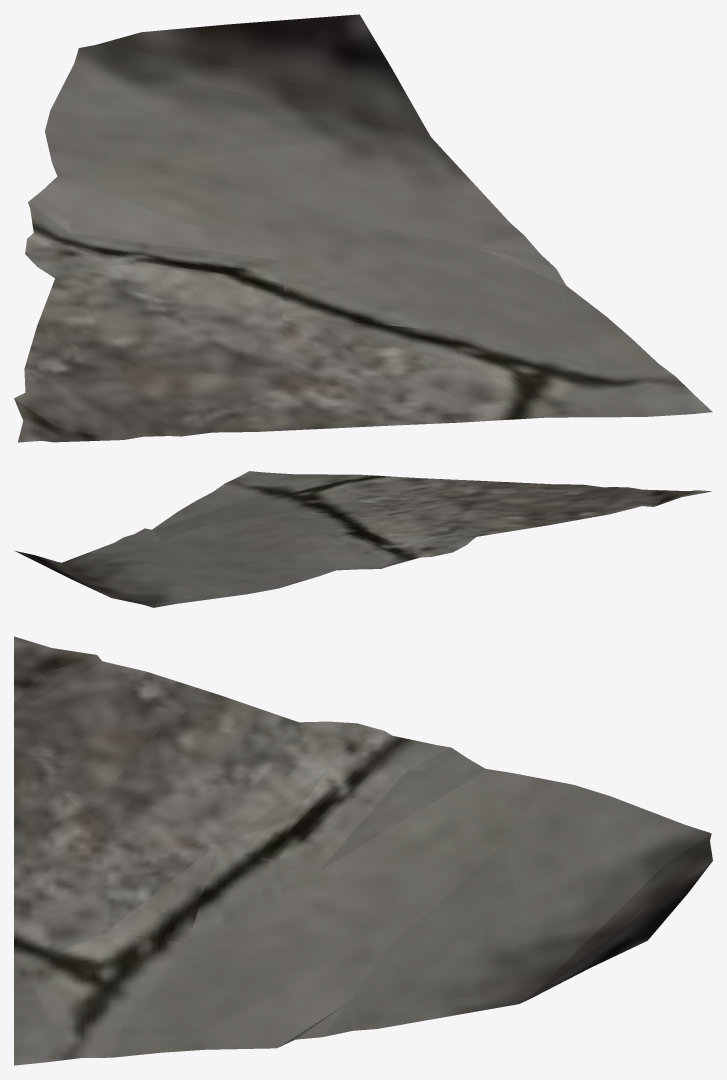
The picture shows the model from 3 angles, top to bottom: view 1: azimuth 30°, elevation 25°; view 2: azimuth 150°, elevation 25°; view 3: azimuth 270°, elevation 25°; orthographic projection. The views are drawn at different scales.
Size of the model in its own units: 0.3845 by 0.0736 by 0.3733.
Materials: 1 (1 with a texture image).
